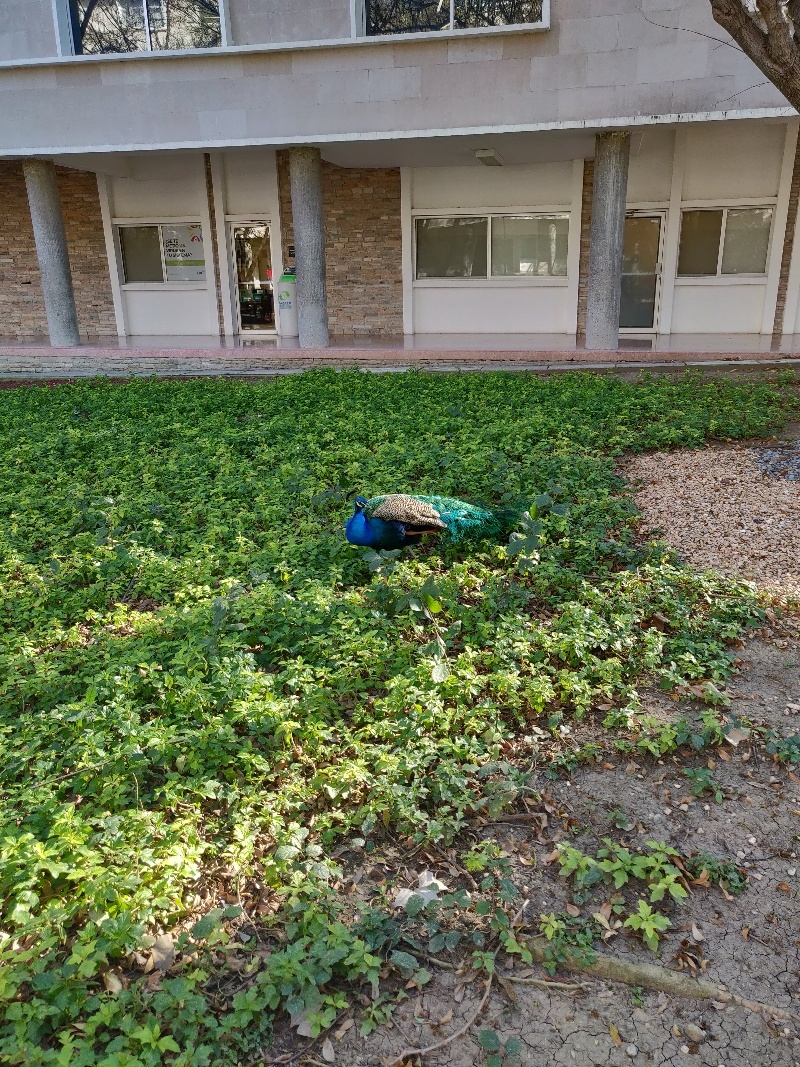pavoreal: (347, 488, 433, 558)
